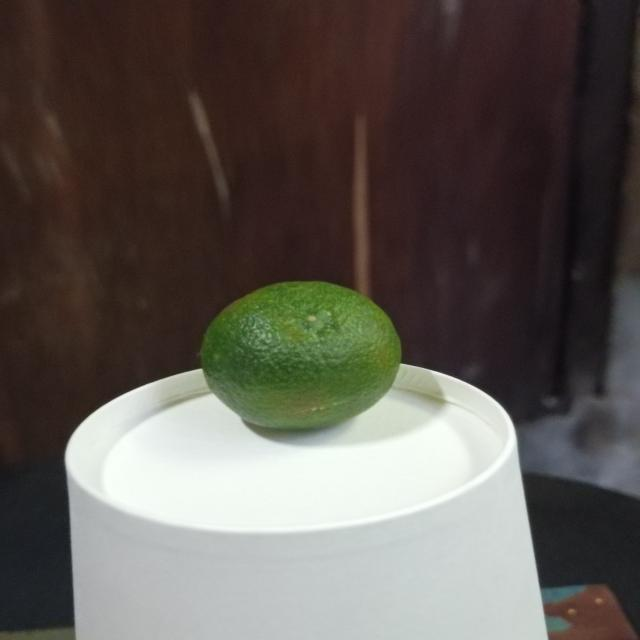heathy: (196, 274, 411, 435)
